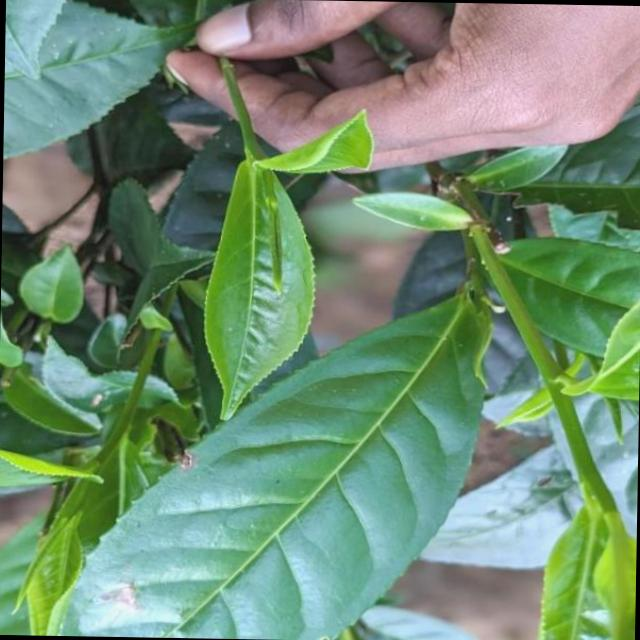Stem: (245, 139, 258, 150)
